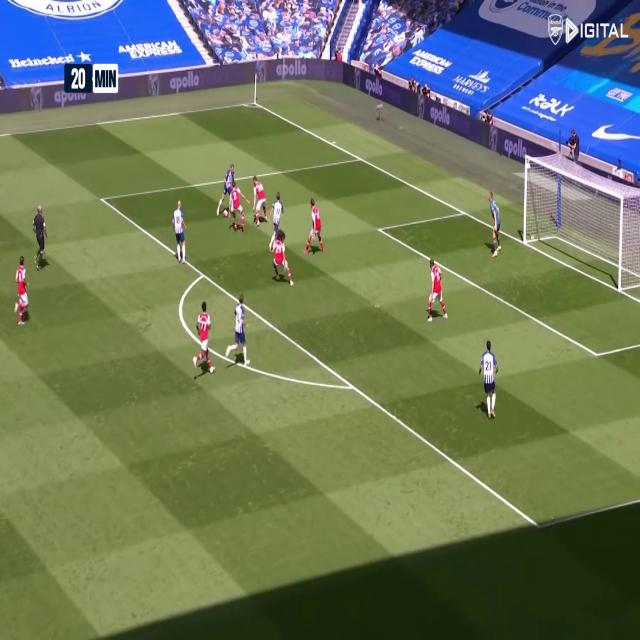Ball: (222, 205, 229, 221)
GoalKeeper: (488, 194, 501, 259)
TEAM 1: (427, 262, 449, 324), (195, 300, 213, 373), (271, 230, 293, 284), (13, 258, 30, 324), (306, 199, 325, 257), (230, 186, 246, 231), (254, 178, 268, 222)
TEAM 2: (479, 341, 498, 421), (215, 148, 236, 211), (232, 297, 249, 369), (172, 203, 187, 266), (270, 195, 284, 236)
